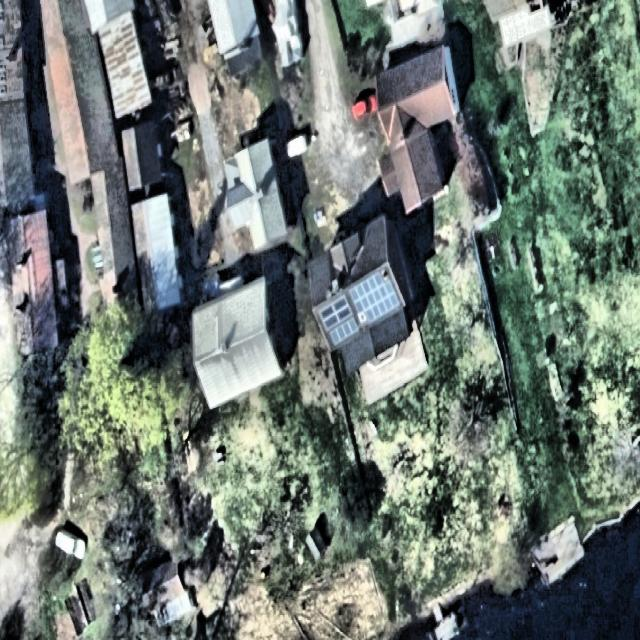roof_pv: (353, 266, 398, 325), (329, 318, 362, 343)
